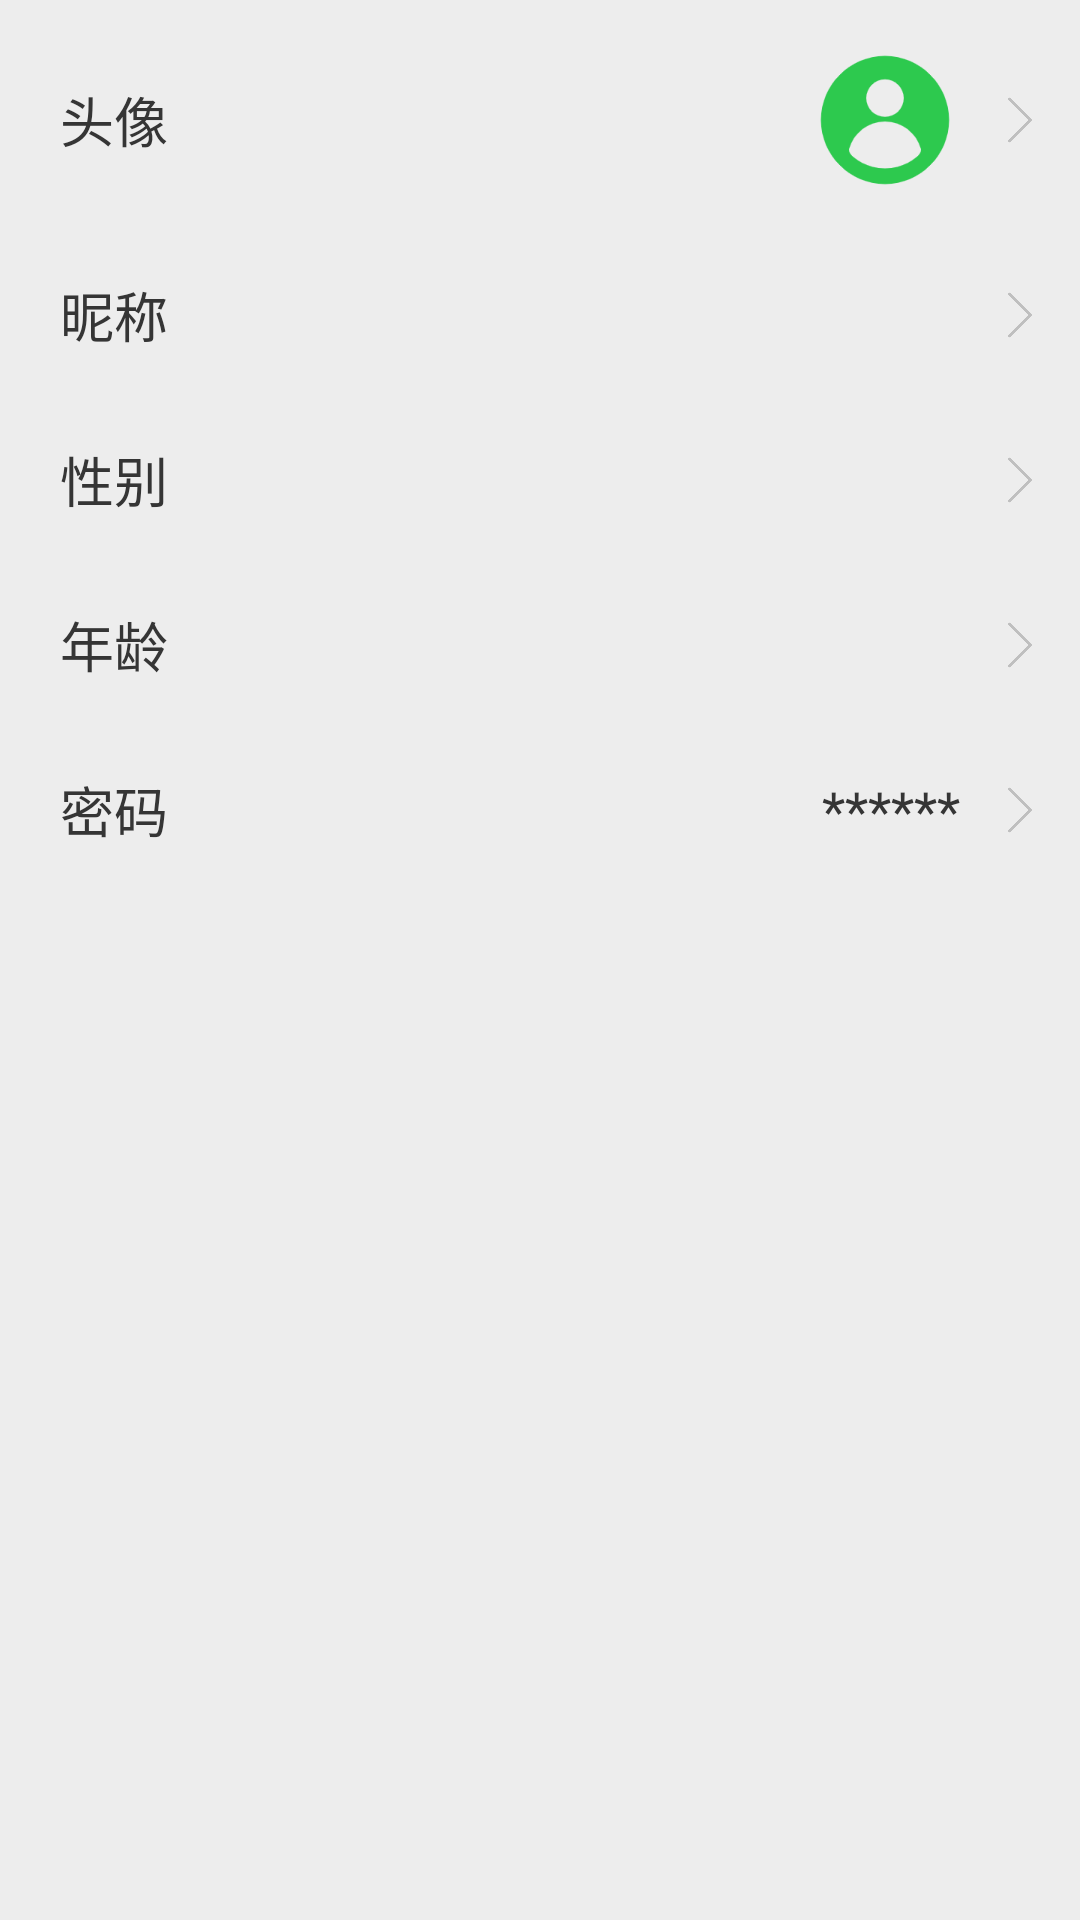

Where to tap for icons on this 1080x1920 app screen, as (x=x, y=y):
to right: (x=1020, y=120), (x=1020, y=315), (x=1020, y=480), (x=1020, y=645), (x=1020, y=810)
user: (x=885, y=120)
